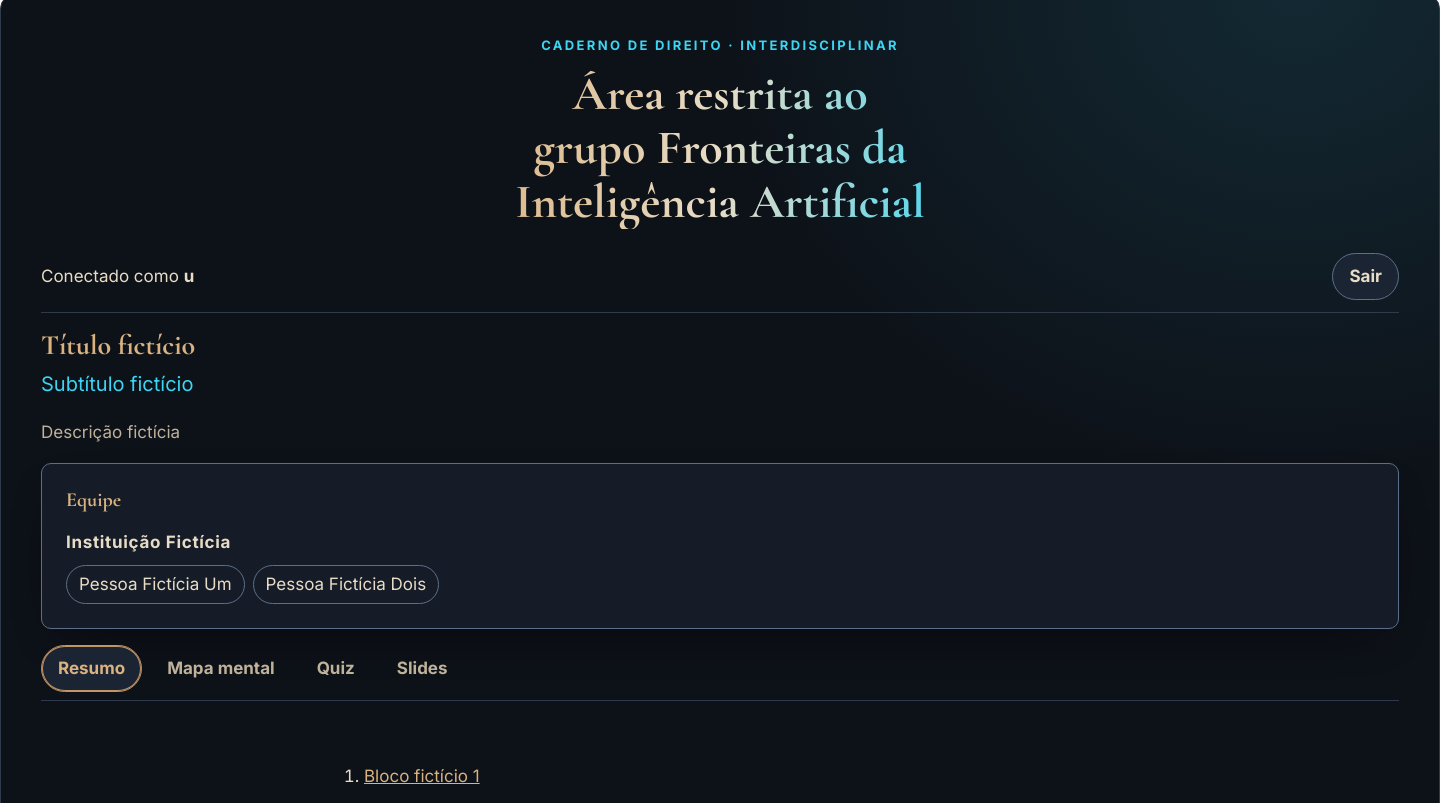
AreaRestrita › sair apaga o conteúdo da tela e volta à splash
What coordinates should you click on to do the following:
click the button "Sair"
I would click on:
 (1366, 277)
Its box is [1332, 253, 1399, 300].
(page scrolled)
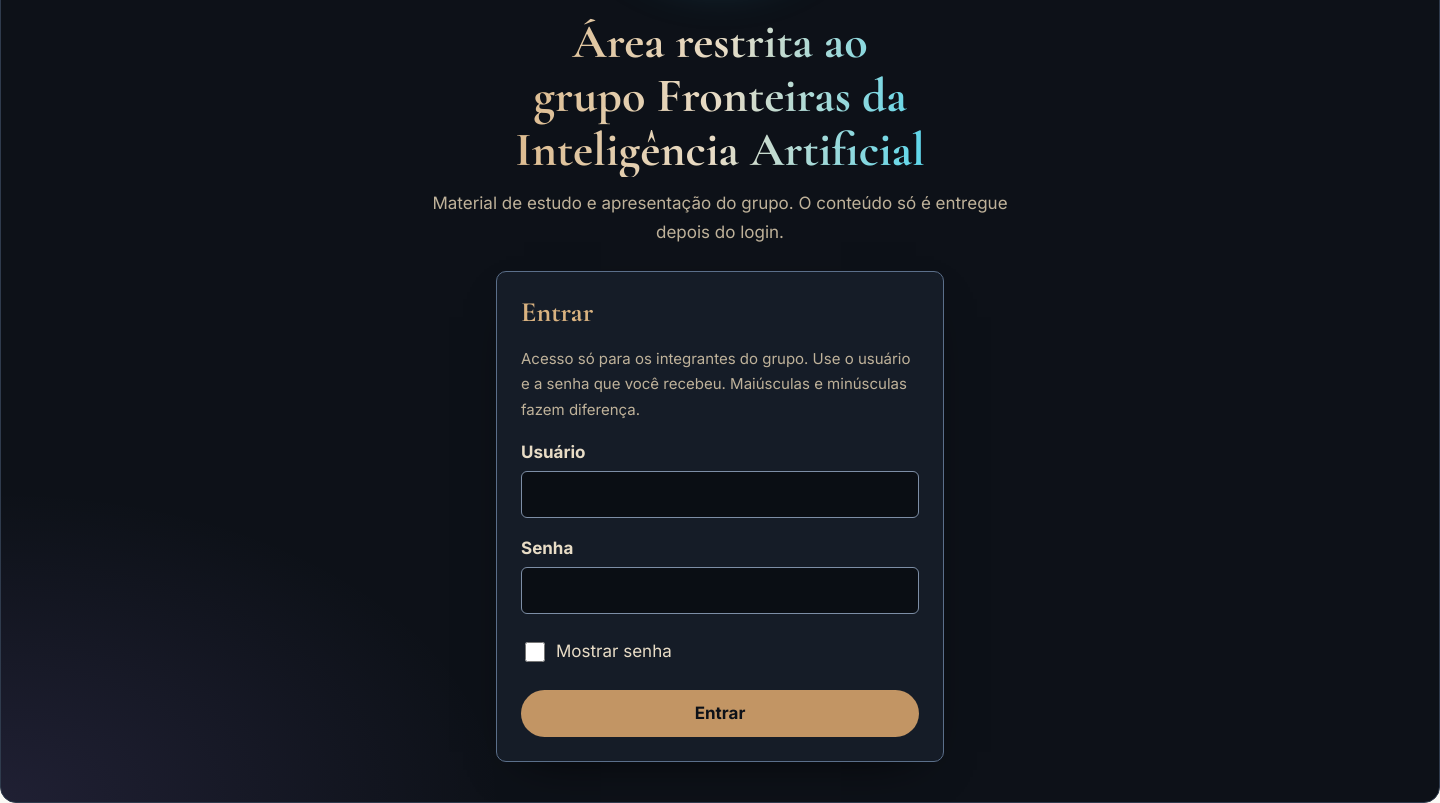
Expected: the text "Instituição Fictícia" is gone
Expected: the field named "usuario" is shown, [521, 471, 919, 518]
